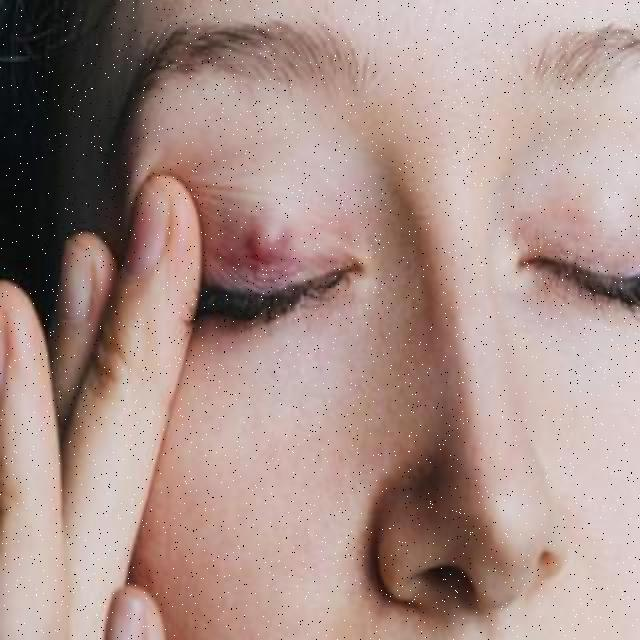Stye: (222, 186, 324, 306)
